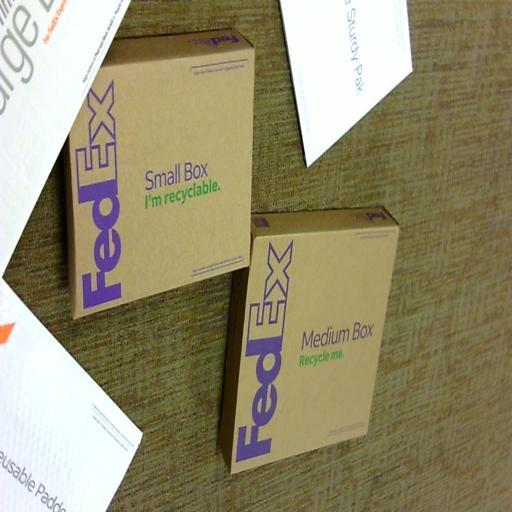Amazon: (78, 21, 249, 321), (222, 197, 403, 475)
